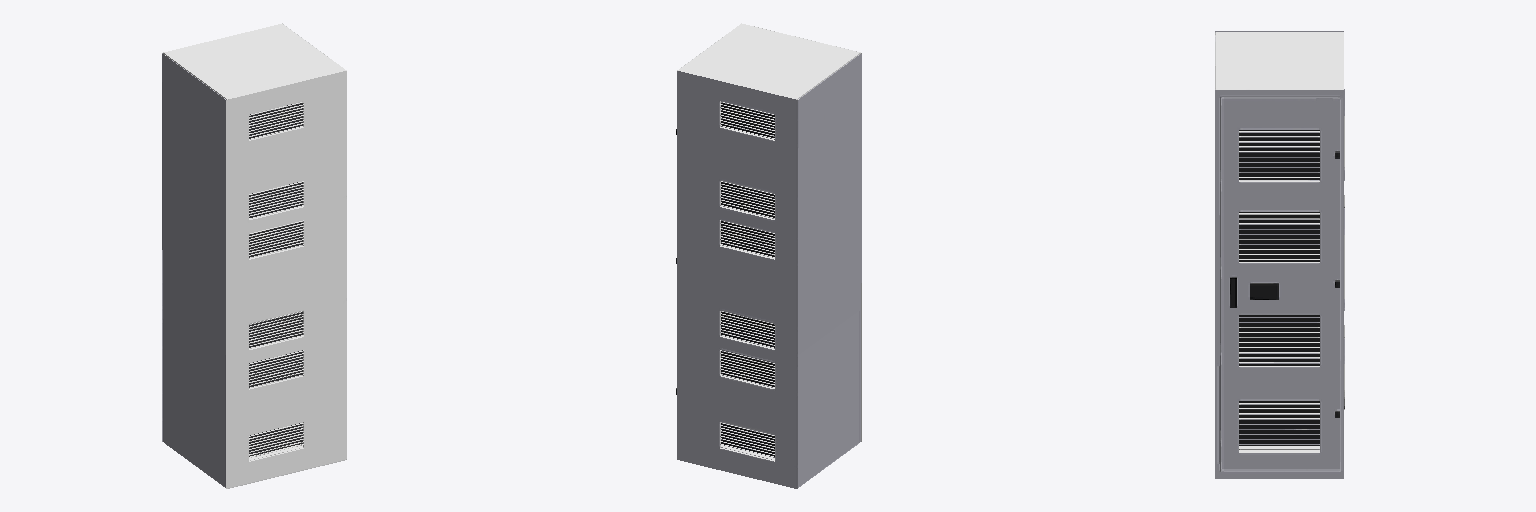
3 views of the same model, side by side, from view 1: azimuth 30°, elevation 25°; view 2: azimuth 150°, elevation 25°; view 3: azimuth 270°, elevation 25° (orthographic).
Visible parts, largest first — view 1: set4; view 2: set4; view 3: set4.
Boxes of the visible parts, box(x1,y1,x2,y2) form: set4: box(162, 23, 346, 488); set4: box(676, 23, 861, 488); set4: box(1215, 31, 1344, 478).
Bounding box in the file's own units: 0.6683 × 2 × 0.6016.
Materials: 1 (1 with a texture image).